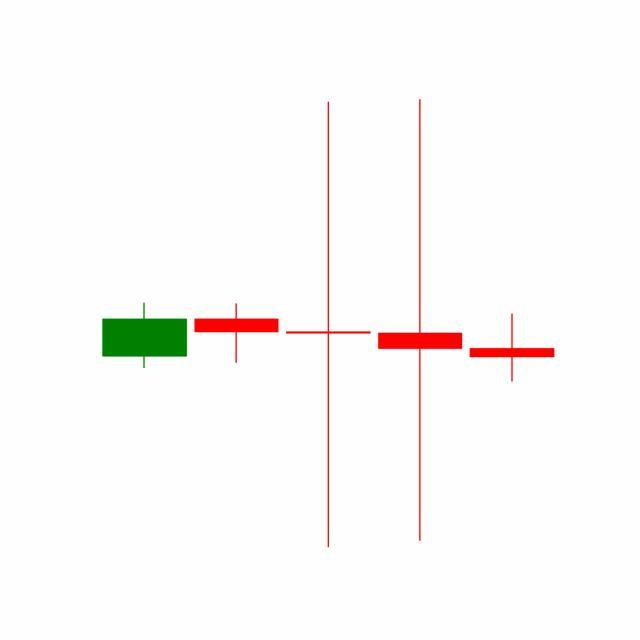Spinning Top: (466, 313, 559, 384)
